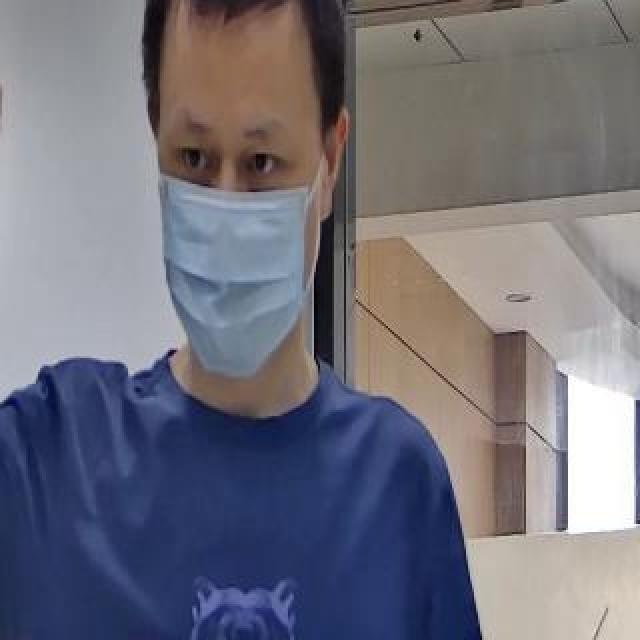Guns: (0, 0, 10, 290)
